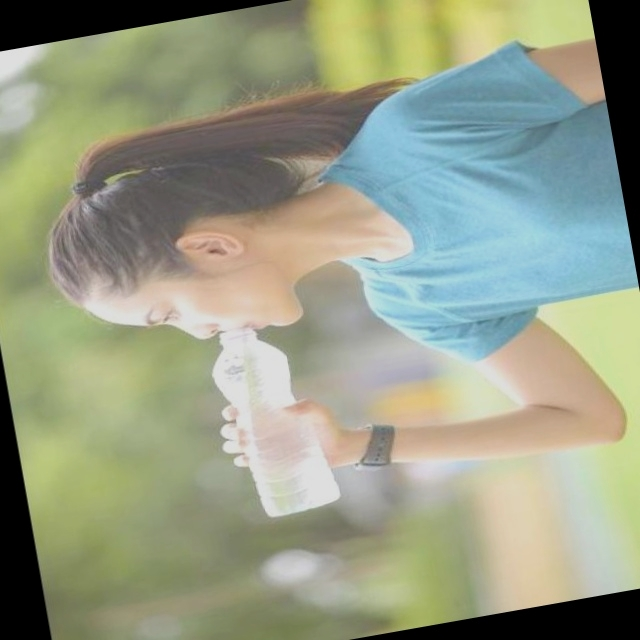Plastic-bottle: (199, 312, 318, 516)
